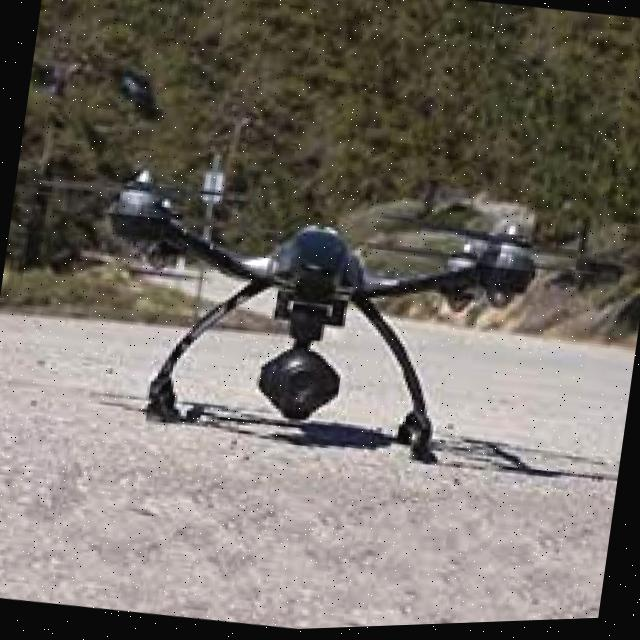drone: (0, 106, 600, 512)
